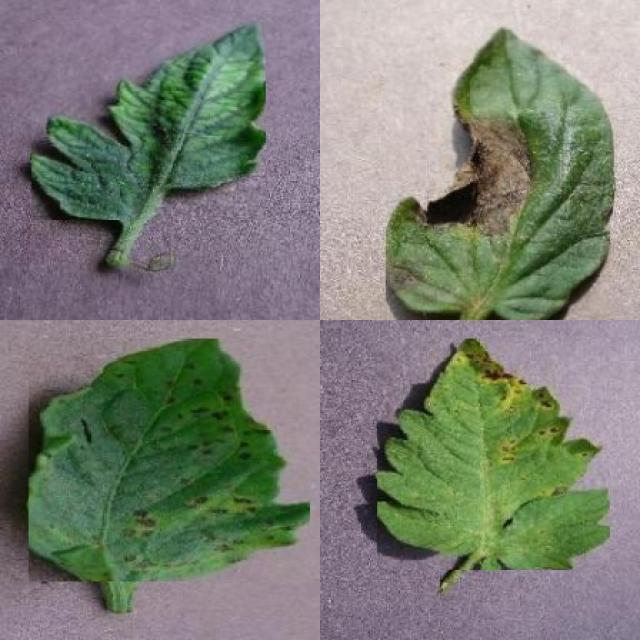Late Blight: (386, 26, 615, 320)
Mosaic Virus: (32, 20, 265, 220)
Septoria: (29, 338, 310, 582), (377, 339, 610, 571)
